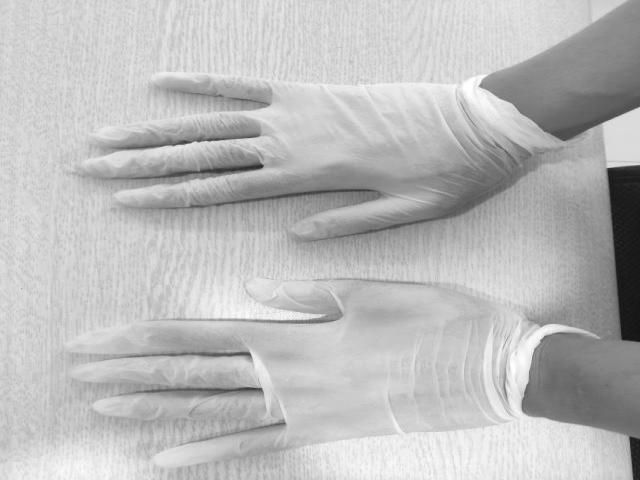gloved: (104, 278, 502, 456), (83, 69, 476, 241)
